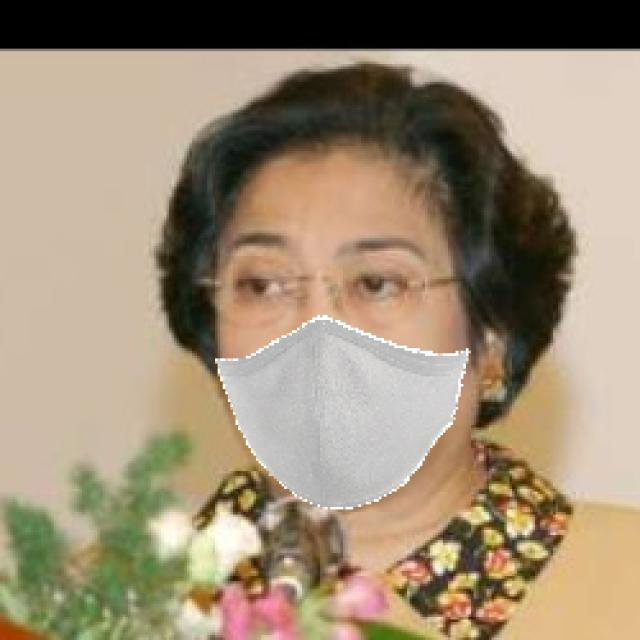mask: (206, 320, 489, 516)
